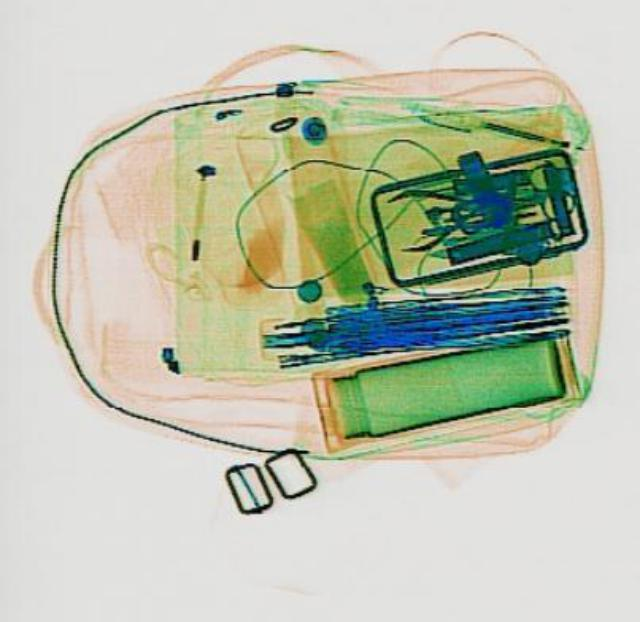Pliers: (381, 171, 509, 251)
Scissors: (462, 155, 578, 244)
